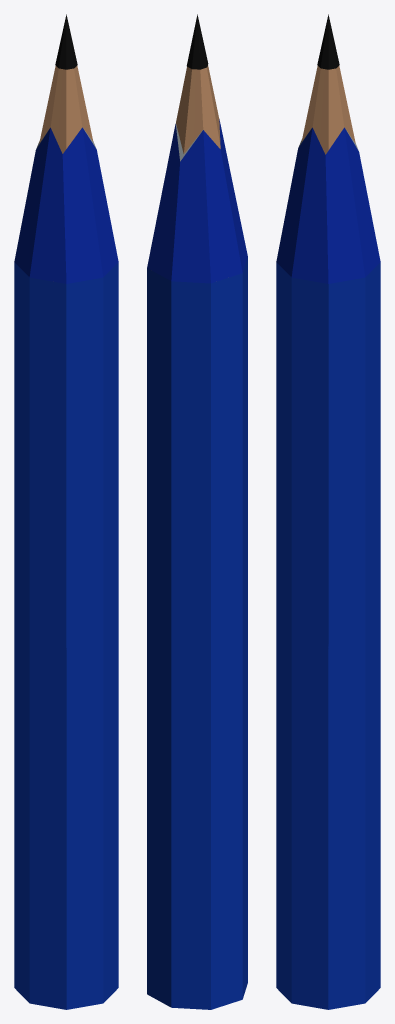
The model's file is pencil.fbx.
3 renders of one model, left to right at view 1: azimuth 90°, elevation 25°; view 2: azimuth 150°, elevation 25°; view 3: azimuth 270°, elevation 25°, orthographic.
Parts seen in each view (by area): view 1: 柱体; view 2: 柱体; view 3: 柱体.
Part boxes in pixels (<box>): 柱体: <box>14,14,118,1009</box>; 柱体: <box>147,14,247,1009</box>; 柱体: <box>276,14,380,1009</box>.
Bounding box in the file's own units: 2 × 20.59 × 2.
